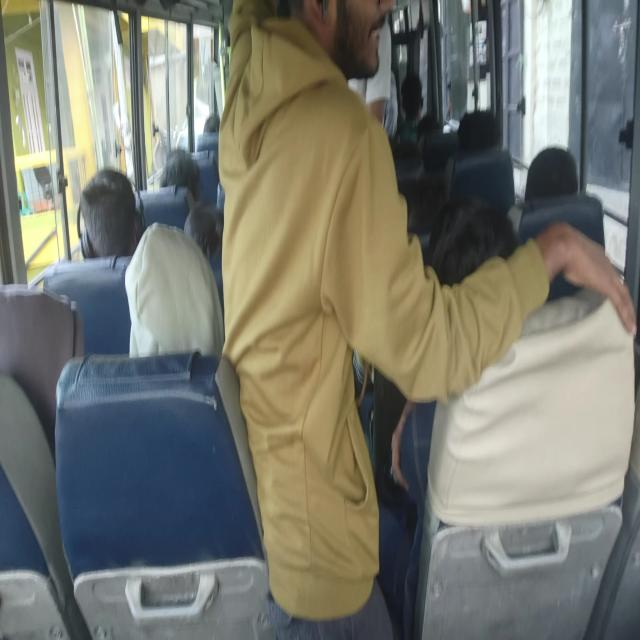person: (217, 0, 636, 638), (124, 220, 225, 358), (77, 166, 142, 259)
